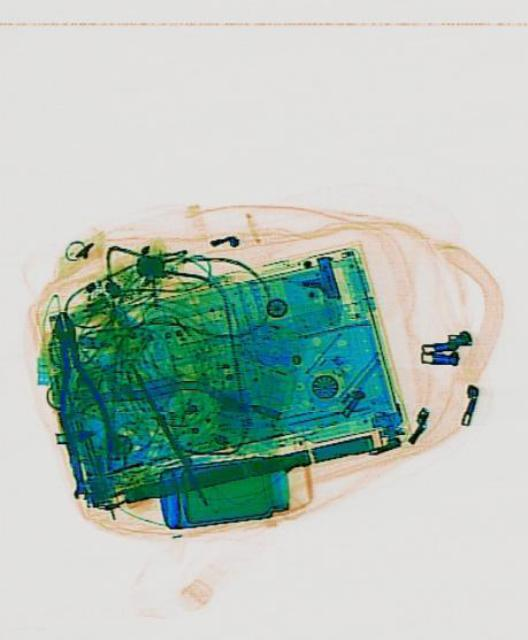Pliers: (38, 304, 120, 486)
Wrench: (61, 432, 87, 498)
